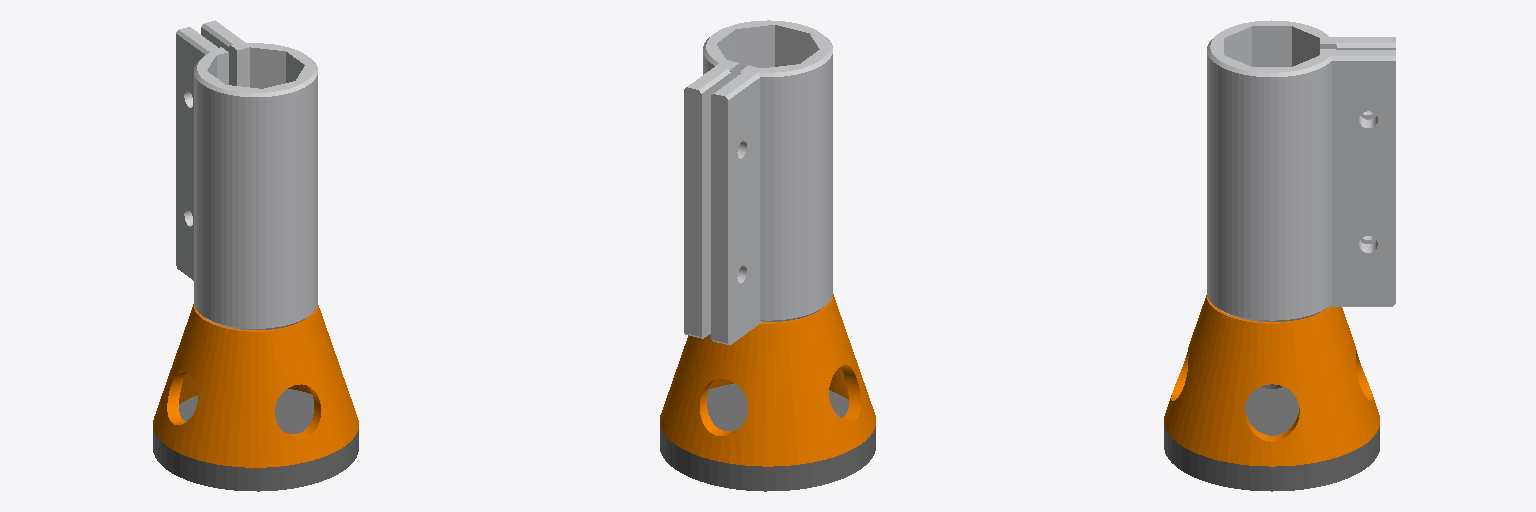
robot.urdf — base:
<!--URDF generated by ONSHAPE BY PTC INC, 1.219-->
<robot name="base">
    <link name="root">
        <visual>
            <origin xyz="0 0 0.048" rpy="0 -0 0" />
            <geometry>
                <mesh filename="package://base/meshes/clamping_sleeve.stl" scale="1 1 1" />
            </geometry>
            <material name="0.831373_0.835294_0.843137_0.000000_0.000000">
                <color rgba="0.831373 0.835294 0.843137 1" />
            </material>
        </visual>
        <visual>
            <origin xyz="0 0 0" rpy="0 -0 0" />
            <geometry>
                <mesh filename="package://base/meshes/SOLID.stl" scale="1 1 1" />
            </geometry>
            <material name="0.498039_0.498039_0.498039_0.000000_0.000000">
                <texture />
                <color rgba="0.498039 0.498039 0.498039 1" />
            </material>
        </visual>
        <visual>
            <origin xyz="0 0 0.008" rpy="0 -0 0" />
            <geometry>
                <mesh filename="package://base/meshes/SOLID_1.stl" scale="1 1 1" />
            </geometry>
            <material name="0.972549_0.529412_0.003922_0.000000_0.000000">
                <texture />
                <color rgba="0.972549 0.529412 0.00392157 1" />
            </material>
        </visual>
    </link>
</robot>

--- Render facts (derived) ---
3 views of the same robot in one strip: view 1: azimuth 30°, elevation 25°; view 2: azimuth 150°, elevation 25°; view 3: azimuth 270°, elevation 25° (orthographic).
Robot: base — 1 links, 0 joints (none); root link root; default pose: all joints at 0.
Links seen in each view (by area): view 1: root; view 2: root; view 3: root.
Link boxes in pixels (left/top/right/bottom): root: left=153, top=20, right=358, bottom=491; root: left=660, top=20, right=875, bottom=491; root: left=1164, top=20, right=1395, bottom=491.
Bounding box of the posed robot: 0.063 × 0.0675 × 0.128 m (x, y, z).
Meshes: 3 distinct files referenced, 3 mesh visuals loaded (3 binary STL).
